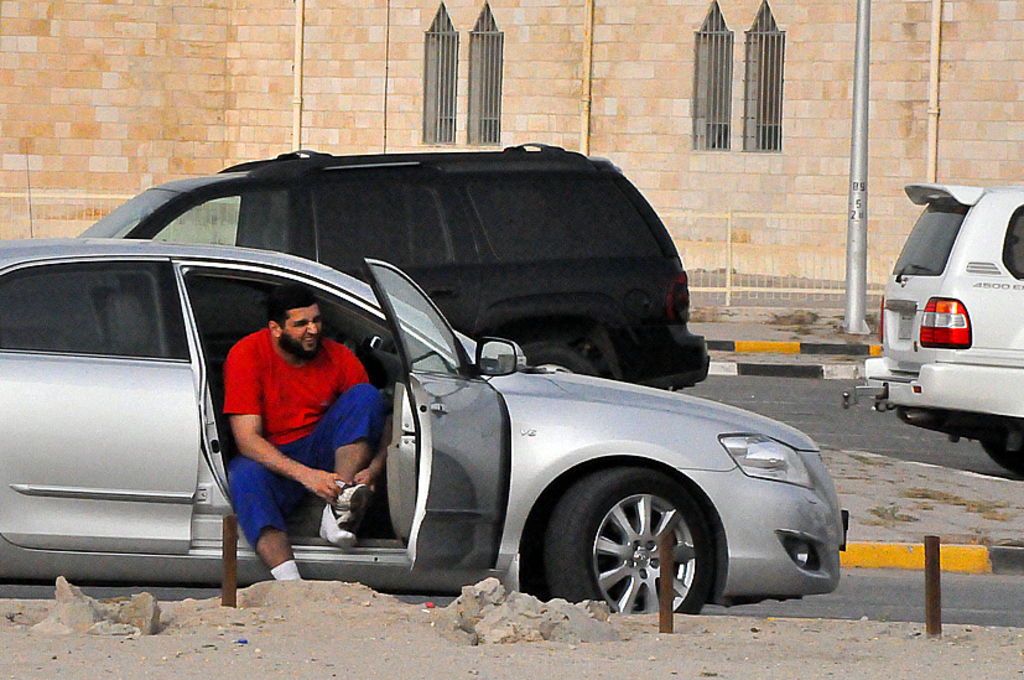Car: (26, 141, 710, 391), (843, 184, 1022, 478)
